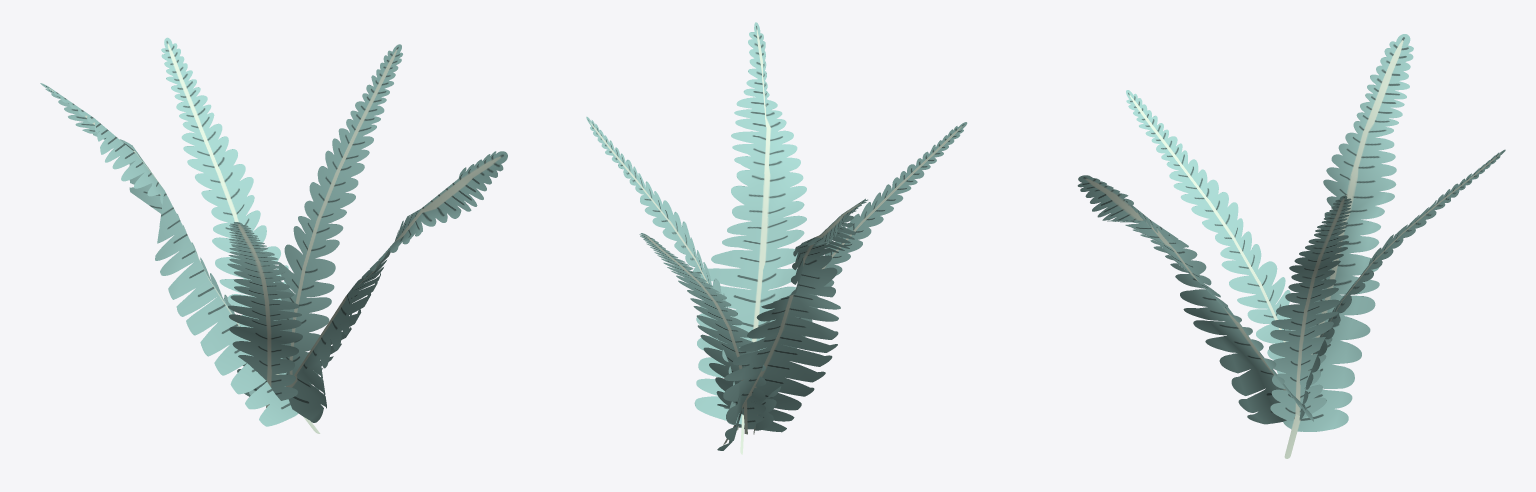
File: fern02.fbx
3 renders of one model, left to right at view 1: azimuth 30°, elevation 25°; view 2: azimuth 150°, elevation 25°; view 3: azimuth 270°, elevation 25°, orthographic. The views are drawn at different scales.
Parts seen in each view (by area): view 1: fern02; view 2: fern02; view 3: fern02.
Part boxes in pixels (x1,y1,x2,y2): fern02: (40,37,507,433); fern02: (586,22,967,454); fern02: (1077,34,1505,458).
Size of the model in its own units: 0.9338 by 0.8467 by 1.11.
